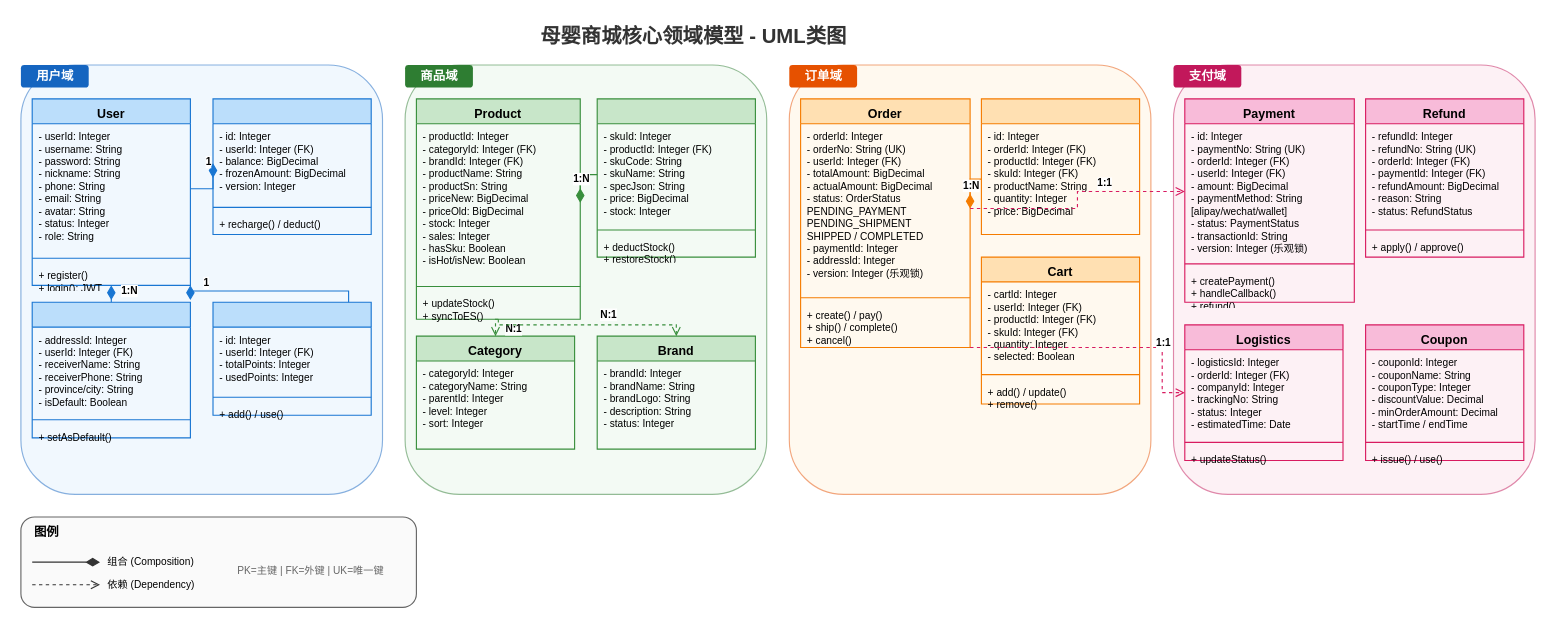
The diagram is 1555 pixels wide and 627 high, and some of its shapes have lost their labels. The shapes that lost their labels are listed below. From the top down, each one's box as (x1, y1, x2, y2) in pixels, then its label:
(212, 98, 371, 234): UserAccount
(596, 98, 755, 257): ProductSku
(980, 98, 1140, 234): OrderProduct
(31, 301, 190, 438): UserAddress
(212, 301, 371, 415): UserPoints
